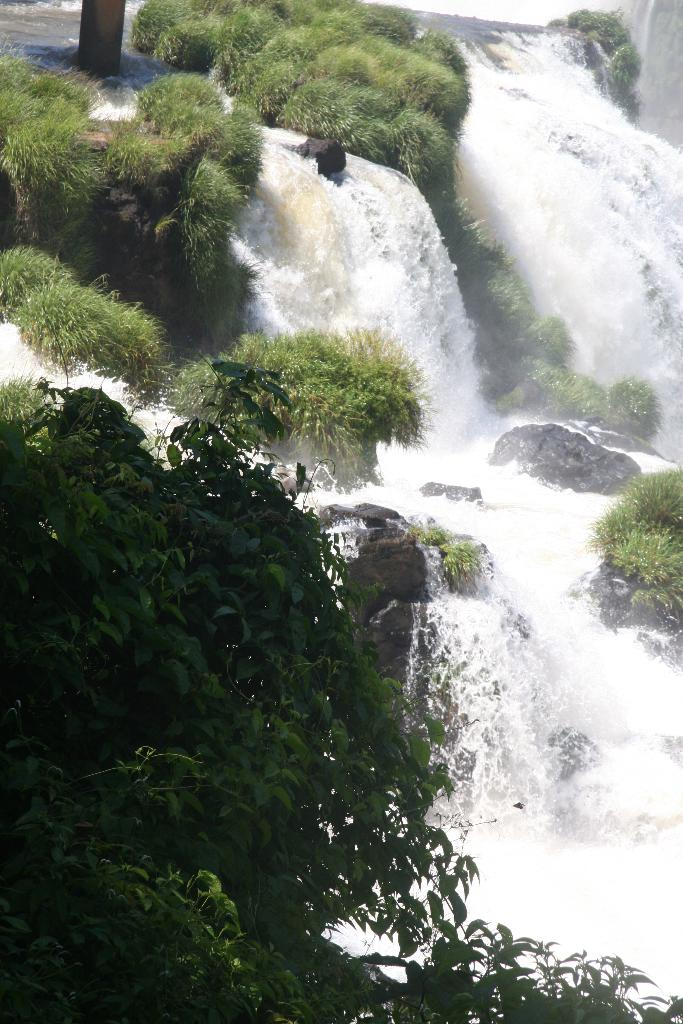Tree: (0, 378, 682, 1023), (71, 0, 128, 78)
